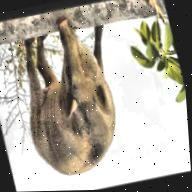boar: (0, 0, 131, 192)
